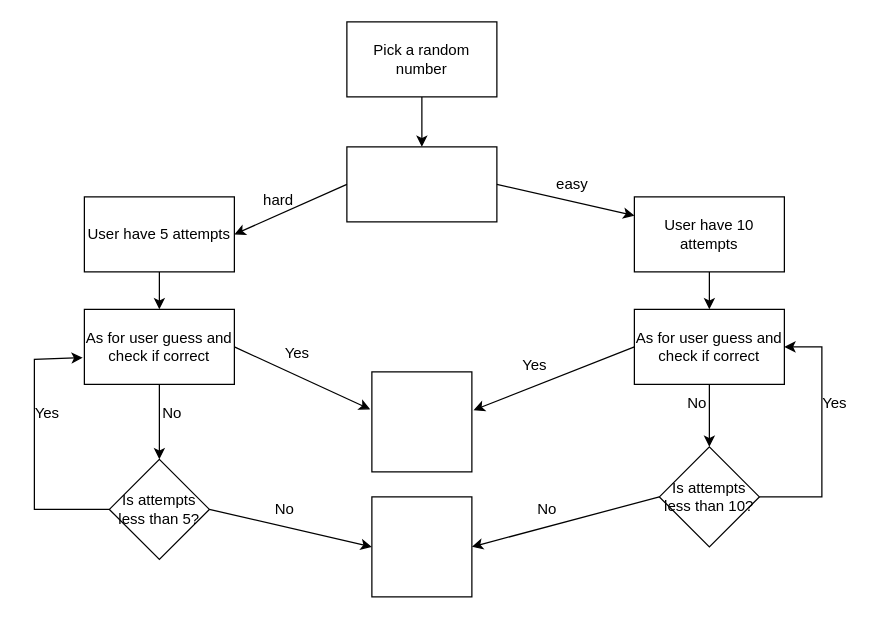
The diagram is 880 pixels wide and 619 high, and some of its shapes have lost their labels. The box of each missing label's shape, as (x1, y1, x2, y2) in pixels:
Hard or easy: (346, 146, 497, 222)
You lost: (371, 496, 472, 597)
You won: (371, 371, 472, 472)
